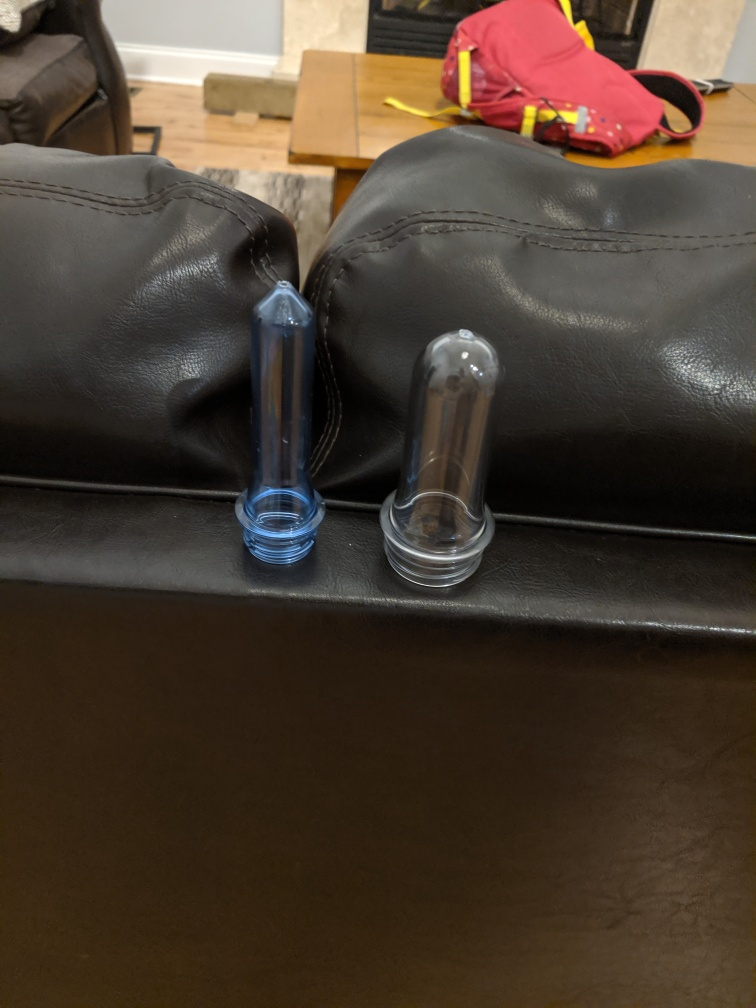preform: (369, 322, 511, 590), (224, 275, 335, 576)
